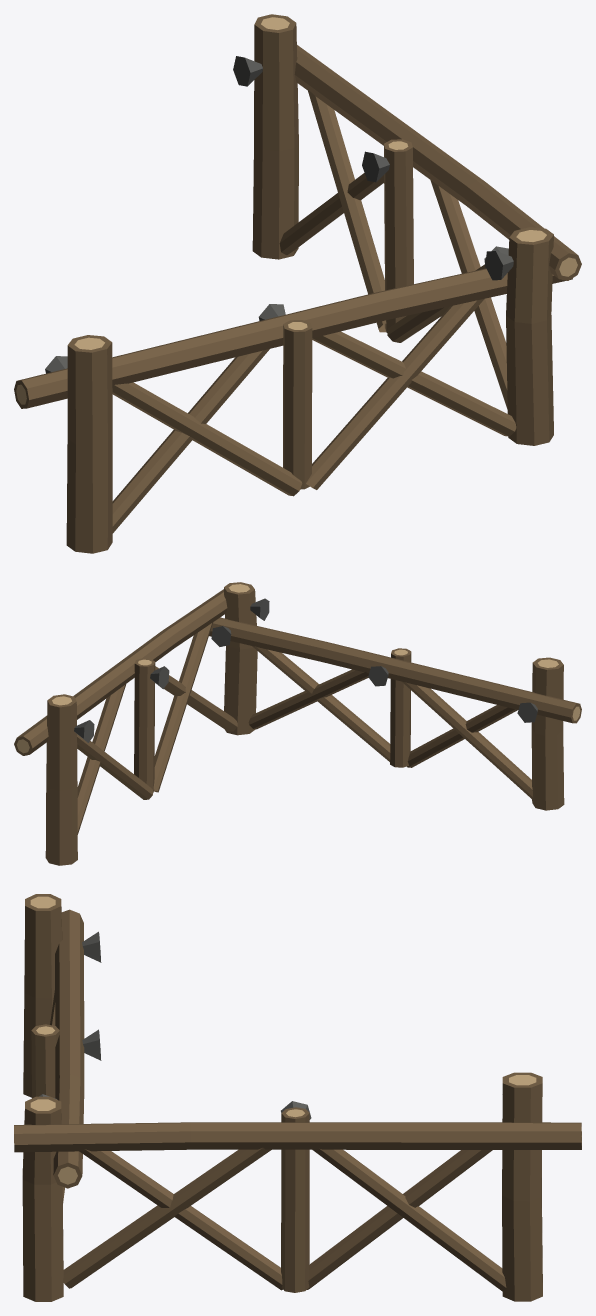
The model's file is rpgpp_ag_wall_platform_02_handrail_01_corner.fbx.
The picture shows the model from 3 angles, top to bottom: view 1: azimuth 30°, elevation 25°; view 2: azimuth 150°, elevation 25°; view 3: azimuth 270°, elevation 25°; orthographic projection. The views are drawn at different scales.
Visible parts, largest first — view 1: rpgpp_ag_wall_platform_02_handrail_01_corner; view 2: rpgpp_ag_wall_platform_02_handrail_01_corner; view 3: rpgpp_ag_wall_platform_02_handrail_01_corner.
Part boxes in pixels (x1,y1,x2,y2): rpgpp_ag_wall_platform_02_handrail_01_corner: [14, 14, 581, 553]; rpgpp_ag_wall_platform_02_handrail_01_corner: [14, 582, 581, 865]; rpgpp_ag_wall_platform_02_handrail_01_corner: [14, 894, 581, 1301].
Size of the model in its own units: 4.39 by 1.74 by 4.21.
